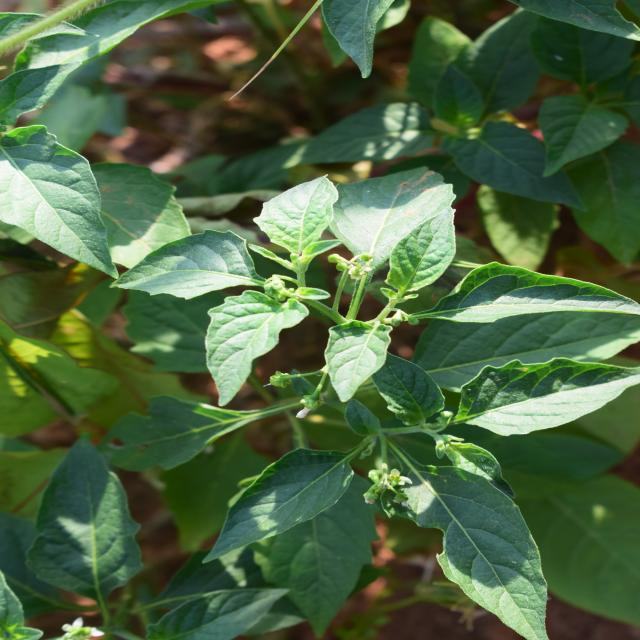Black_nightshade: (74, 117, 468, 582)
